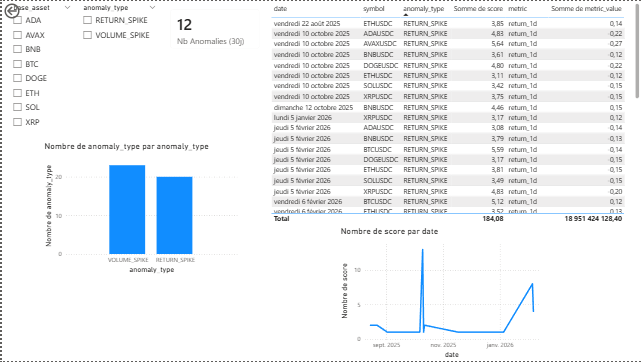

The dashboard page shown, as its layout file describes it:
{"tool":"powerbi","page":{"name":"Anomalies","canvas":[1280,720],"ordinal":1},"visuals":[{"type":"slicer","fields":{"Values":["dim_symbol.base_asset"]},"box":[10,0,140,280],"z":0},{"type":"slicer","fields":{"Values":["anomaly_events.anomaly_type"]},"box":[150,0,170,112.5],"z":1000},{"type":"tableEx","fields":{"Values":["anomaly_events.date","anomaly_events.symbol","anomaly_events.anomaly_type","Sum(anomaly_events.score)","anomaly_events.metric","Sum(anomaly_events.metric_value)"]},"box":[532.5,0,747.5,450],"z":2000},{"type":"actionButton","box":[0,0,100,40],"z":3000},{"type":"cardVisual","fields":{"Data":["Mesures_DAX.Nb Anomalies (30j)"]},"box":[320,0,212.5,112.5],"z":4000},{"type":"clusteredColumnChart","fields":{"Category":["anomaly_events.anomaly_type"],"Y":["CountNonNull(anomaly_events.anomaly_type)"]},"box":[80,280,395,270],"z":5000},{"type":"lineChart","fields":{"Y":["CountNonNull(anomaly_events.score)"],"Category":["anomaly_events.date"]},"box":[672.5,450,422.5,270],"z":6000}]}

Visuals, with their boxes on the page's 1280x720 design canvas (x1, y1, x2, y2). These are canvas units, not pixel positions in the 642x362 screenshot, which may show the page scaled, cropped or inside an application window:
slicer - dim_symbol.base_asset: (10,0,150,280)
slicer - anomaly_events.anomaly_type: (150,0,320,112)
tableEx - anomaly_events.date x anomaly_events.symbol: (532,0,1280,450)
actionButton: (0,0,100,40)
cardVisual - Mesures_DAX.Nb Anomalies (30j): (320,0,532,112)
clusteredColumnChart - anomaly_events.anomaly_type x CountNonNull(anomaly_events.anomaly_type): (80,280,475,550)
lineChart - CountNonNull(anomaly_events.score) x anomaly_events.date: (672,450,1095,720)
